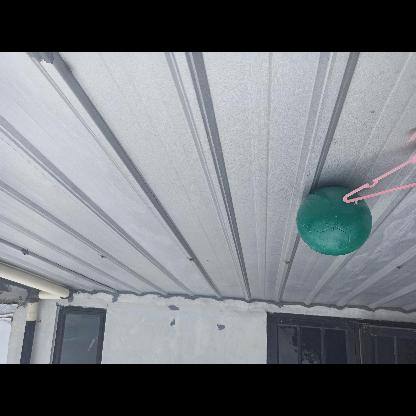green_ball: (298, 182, 372, 258)
